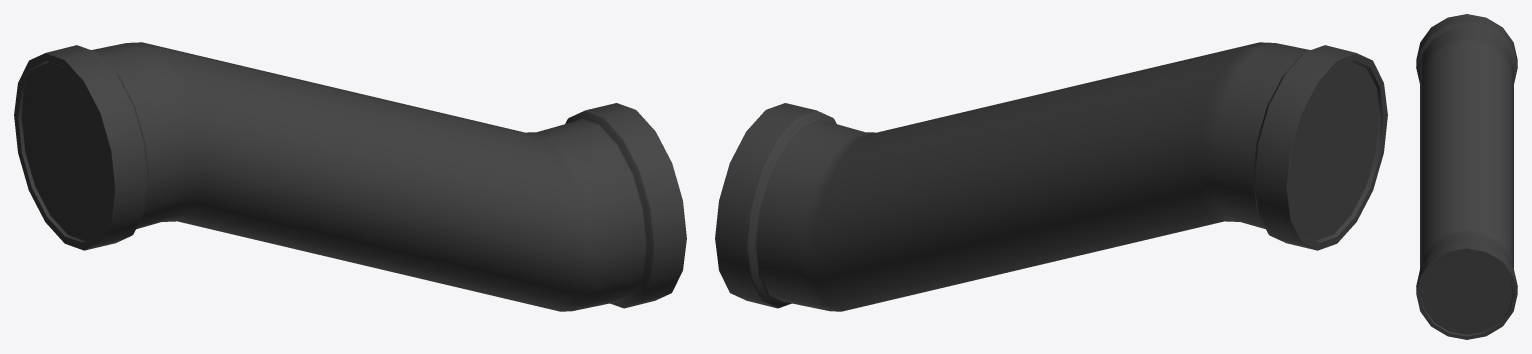
The model's file is colony_Connecting_gateway_slant.glb.
3 views of the same model, side by side, from view 1: azimuth 30°, elevation 25°; view 2: azimuth 150°, elevation 25°; view 3: azimuth 270°, elevation 25° (orthographic). The views are drawn at different scales.
Parts seen in each view (by area): view 1: Connecting_gateway_slant; view 2: Connecting_gateway_slant; view 3: Connecting_gateway_slant.
Boxes of the visible parts, x1,y1,x2,y2 form: Connecting_gateway_slant: (14,42,686,311); Connecting_gateway_slant: (715,42,1387,311); Connecting_gateway_slant: (1416,14,1517,339).
Size of the model in its own units: 895 by 559 by 276.
Materials: 1 (1 with a texture image).
